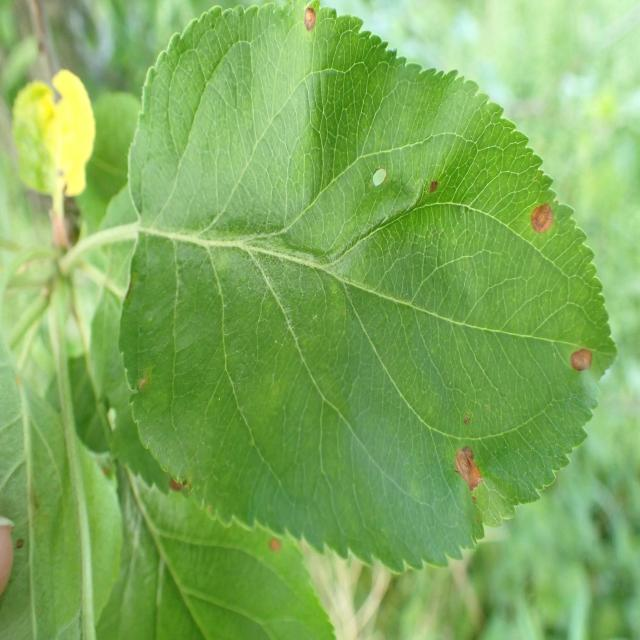Black Rot: (450, 409, 490, 521), (520, 170, 562, 246), (367, 137, 395, 222), (553, 329, 597, 380), (288, 0, 329, 51), (422, 162, 442, 227)
